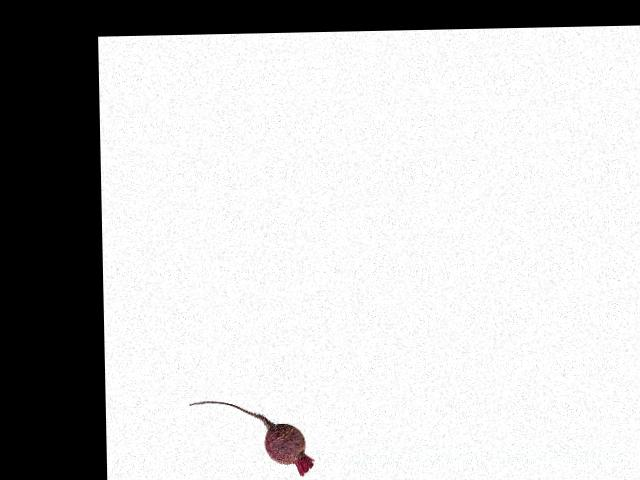beet: (188, 398, 313, 478)
